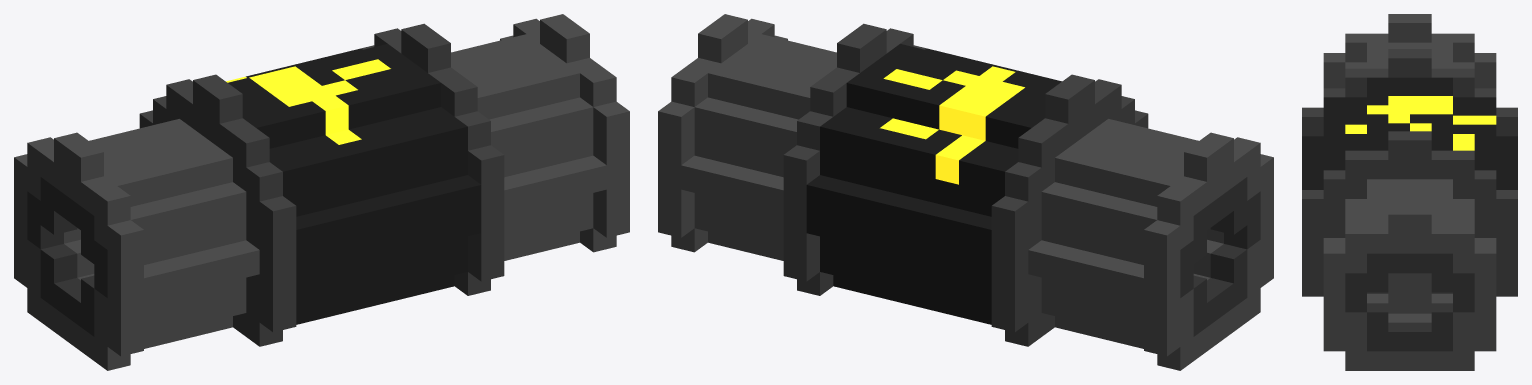
File: item_EXOTIC_BERKANAN.glb
The picture shows the model from 3 angles, left to right: view 1: azimuth 30°, elevation 25°; view 2: azimuth 150°, elevation 25°; view 3: azimuth 270°, elevation 25°; orthographic projection. The views are drawn at different scales.
Visible parts, largest first — view 1: item_EXOTIC_BERKANAN; view 2: item_EXOTIC_BERKANAN; view 3: item_EXOTIC_BERKANAN.
Boxes of the visible parts, bbox=[...] form: item_EXOTIC_BERKANAN: bbox=[14, 14, 629, 370]; item_EXOTIC_BERKANAN: bbox=[658, 14, 1273, 370]; item_EXOTIC_BERKANAN: bbox=[1302, 14, 1517, 370].
Bounding box in the file's own units: 0.5 × 0.2045 × 0.2273.
Materials: 1 (1 with a texture image).
